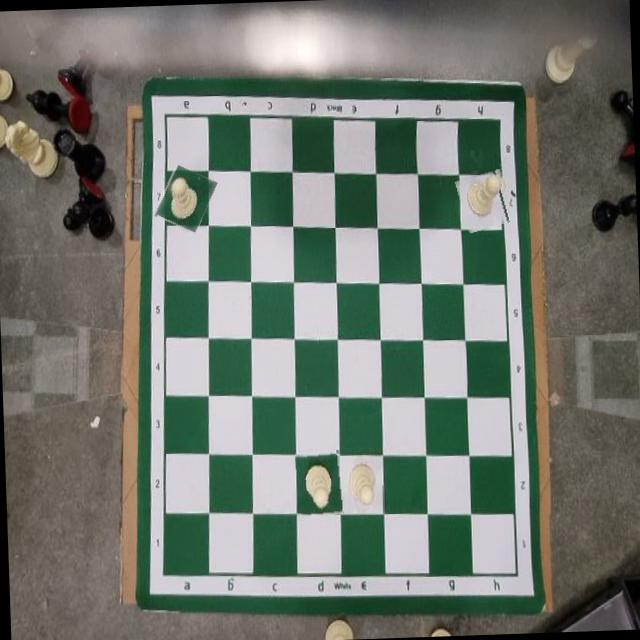chess-table-corners: (147, 94, 184, 130), (486, 99, 515, 138), (503, 554, 529, 589), (154, 557, 178, 583)
